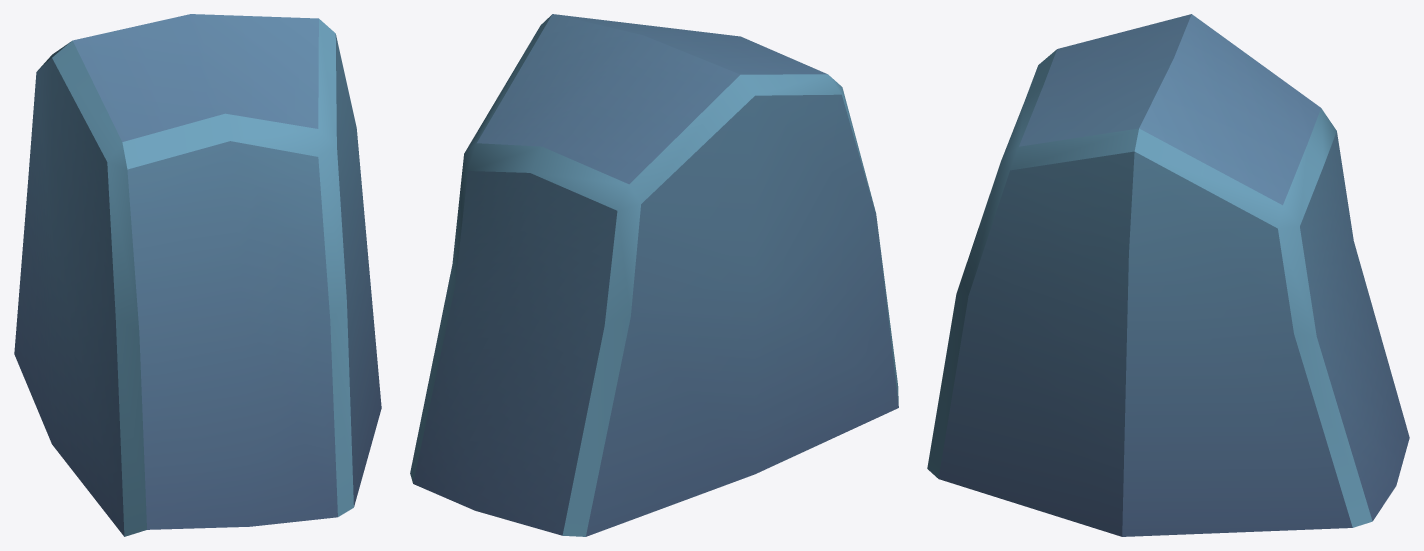
Rendered from Rock-3-7.fbx.
The picture shows the model from 3 angles, left to right: view 1: azimuth 30°, elevation 25°; view 2: azimuth 150°, elevation 25°; view 3: azimuth 270°, elevation 25°; orthographic projection. The views are drawn at different scales.
Visible parts, largest first — view 1: Rock-3-7; view 2: Rock-3-7; view 3: Rock-3-7.
Part boxes in pixels (x1=…): Rock-3-7: x1=14, y1=14, x2=381, y2=536; Rock-3-7: x1=410, y1=14, x2=898, y2=536; Rock-3-7: x1=927, y1=14, x2=1409, y2=536.
Bounding box in the file's own units: 91.42 × 110 × 121.
